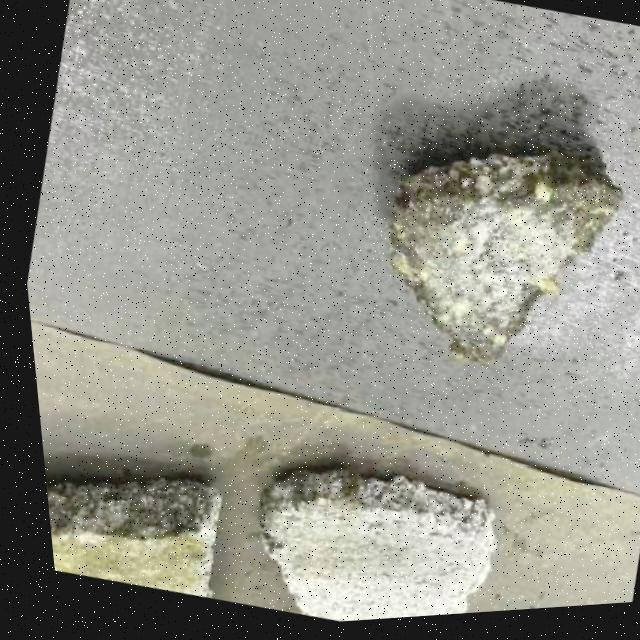Road Debris: (248, 461, 482, 611), (365, 195, 527, 368), (38, 487, 203, 605)
